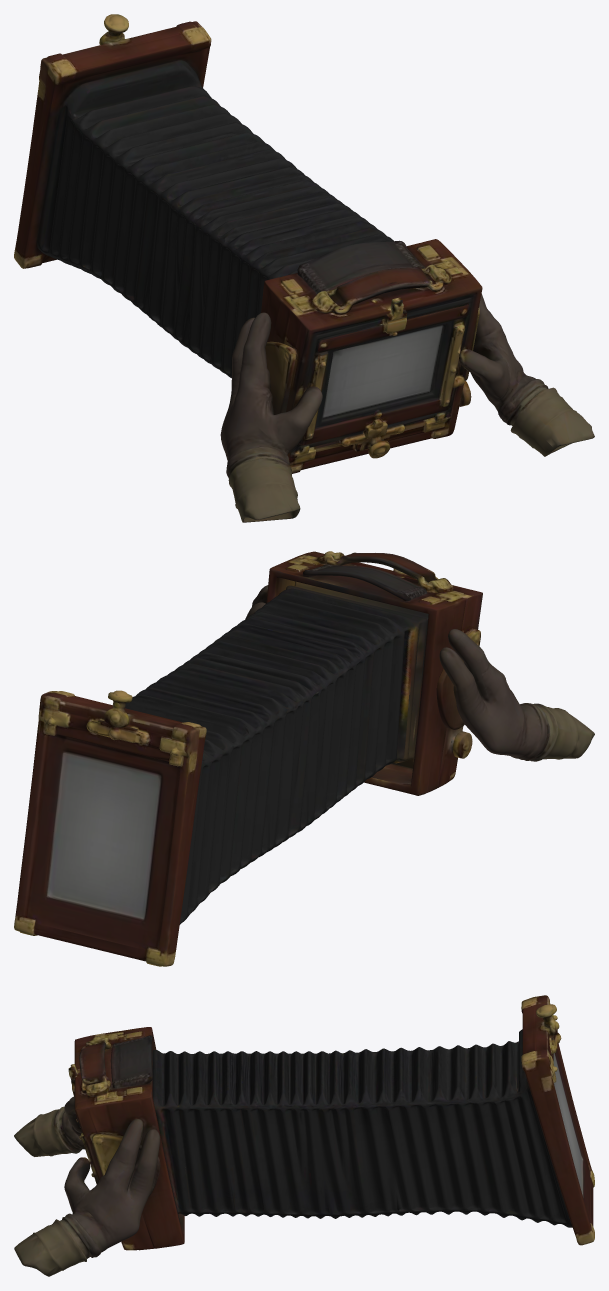
The model's file is field-camera-hands-hy3d-v31-50k-v4-rear-view-1k.glb.
3 renders of one model, top to bottom at view 1: azimuth 30°, elevation 25°; view 2: azimuth 150°, elevation 25°; view 3: azimuth 270°, elevation 25°, orthographic. The views are drawn at different scales.
Parts seen in each view (by area): view 1: node_0; view 2: node_0; view 3: node_0.
Part boxes in pixels (bbox=[...]): node_0: bbox=[14, 14, 594, 522]; node_0: bbox=[14, 551, 594, 966]; node_0: bbox=[14, 995, 594, 1276].
Bounding box in the file's own units: 0.5926 × 0.4136 × 1.03.
1 material, 1 textured.
